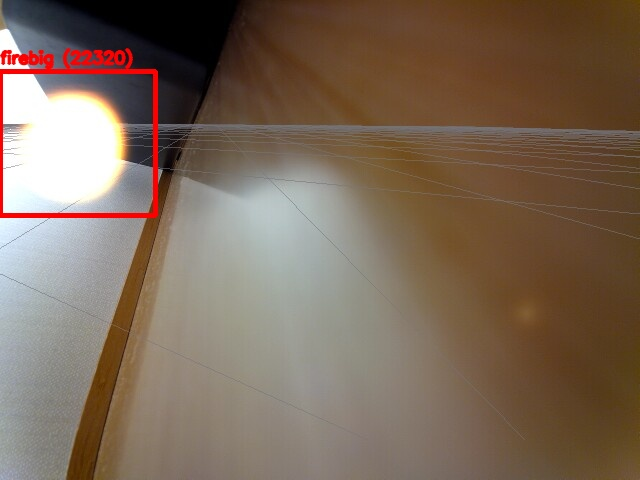firebig: (0, 71, 155, 215)
